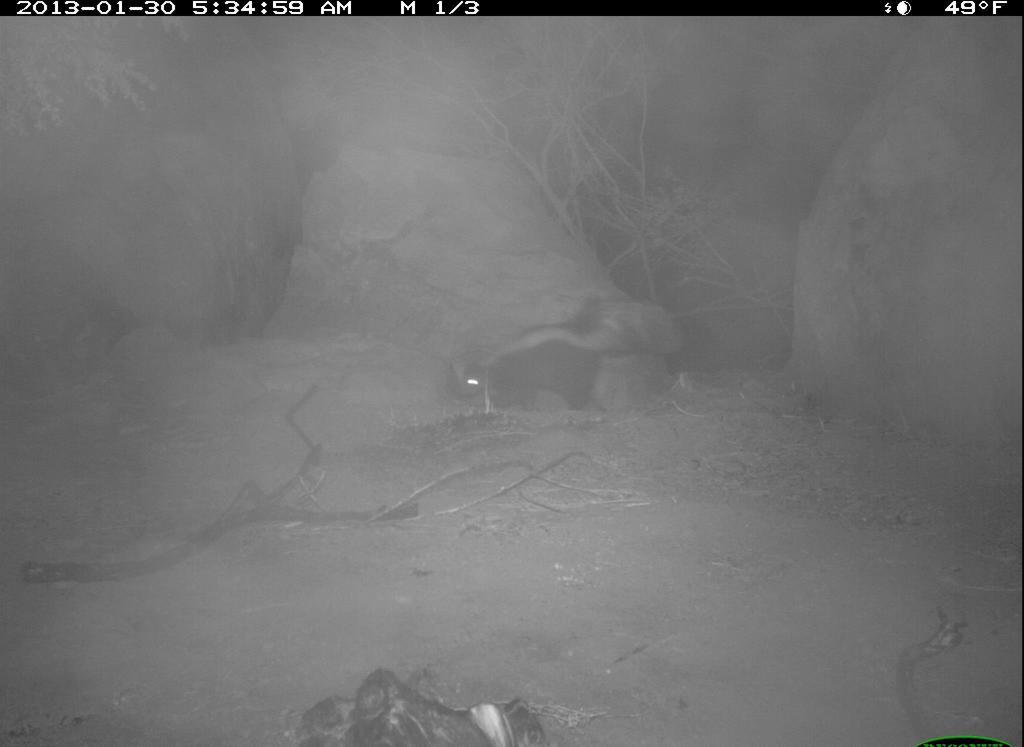skunk: (441, 276, 721, 441)
